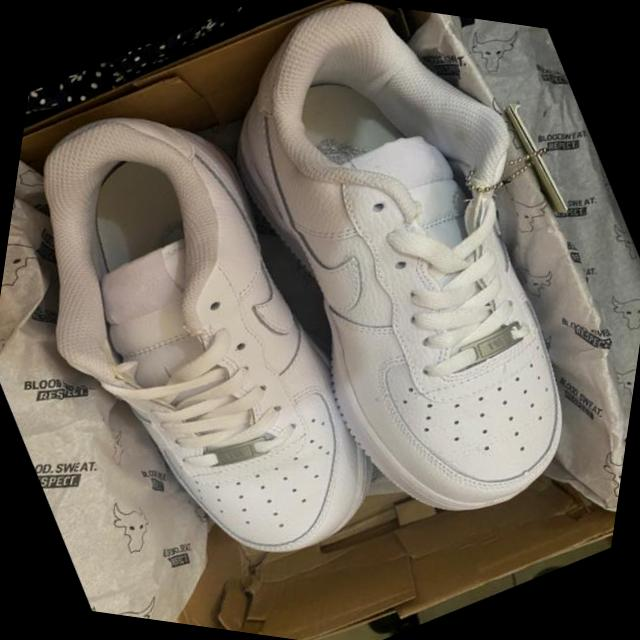nike_fake_airforce: (133, 0, 640, 575), (0, 11, 456, 638)
